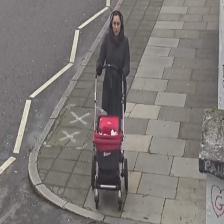person: (97, 10, 130, 151)
